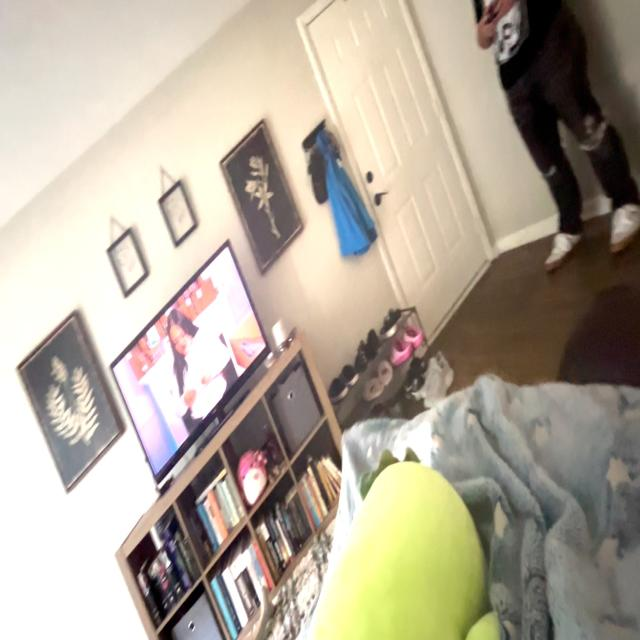drone: (270, 320, 303, 382)
